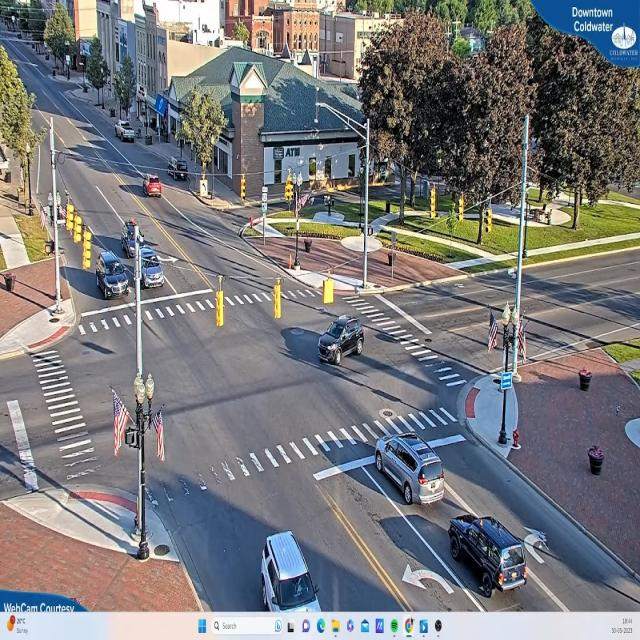car: (450, 515, 532, 595), (373, 432, 445, 506), (262, 530, 322, 610), (97, 256, 134, 301), (117, 122, 137, 144)
